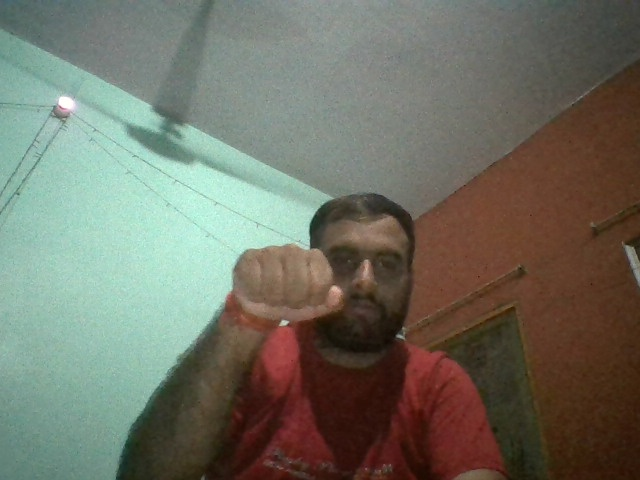yes: (232, 241, 344, 320)
